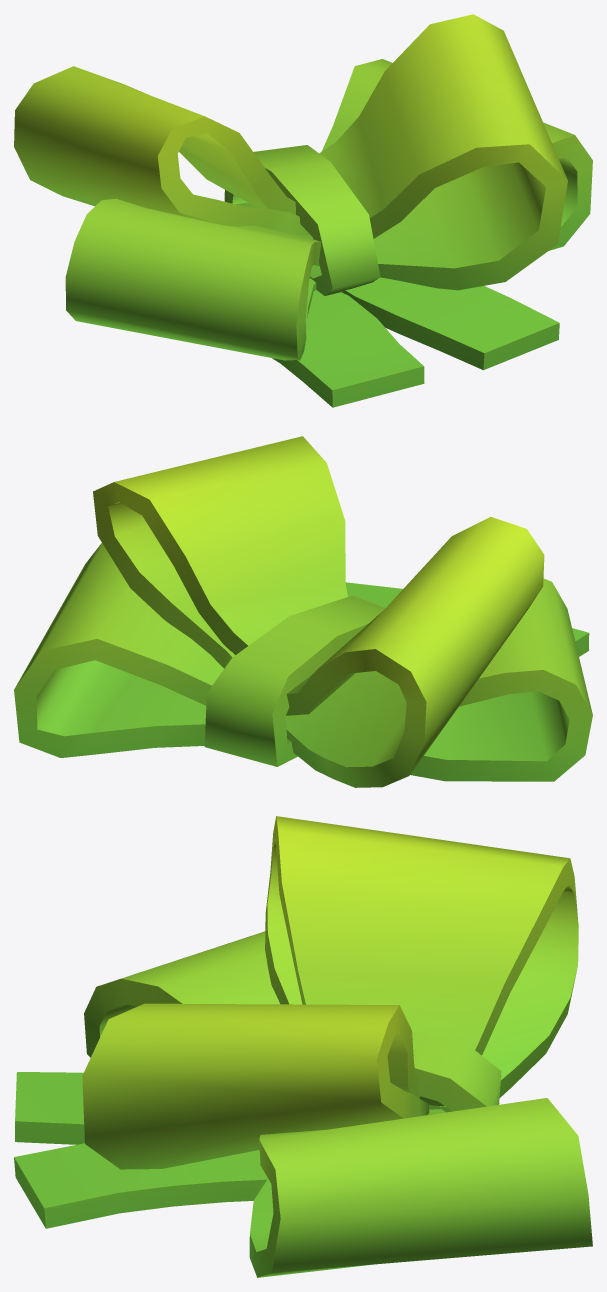
Rendered from bow_019.fbx.
3 renders of one model, top to bottom at view 1: azimuth 30°, elevation 25°; view 2: azimuth 150°, elevation 25°; view 3: azimuth 270°, elevation 25°, orthographic. The views are drawn at different scales.
Visible parts, largest first — view 1: bow_019; view 2: bow_019; view 3: bow_019.
Part boxes in pixels (<box>): bow_019: <box>14,14,592,407</box>; bow_019: <box>14,436,592,787</box>; bow_019: <box>14,816,592,1277</box>.
Bounding box in the file's own units: 246 × 206 × 99.13.
